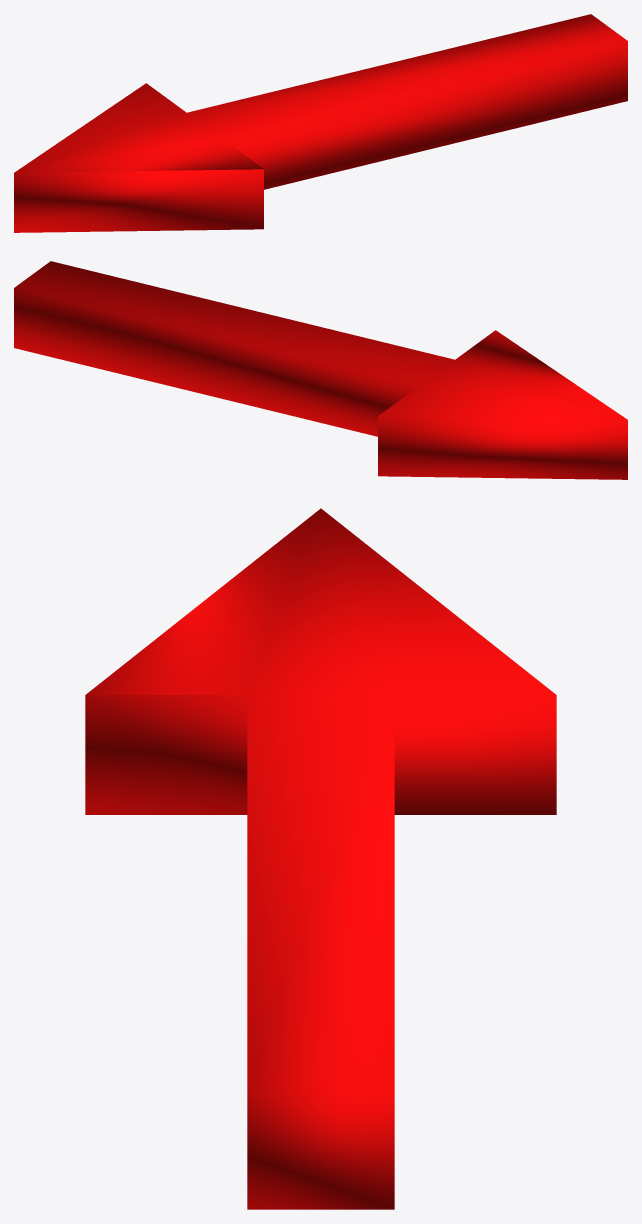
The model's file is Arrow.obj.
The picture shows the model from 3 angles, top to bottom: view 1: azimuth 30°, elevation 25°; view 2: azimuth 150°, elevation 25°; view 3: azimuth 270°, elevation 25°; orthographic projection. The views are drawn at different scales.
Visible parts, largest first — view 1: Arrow; view 2: Arrow; view 3: Arrow.
Part boxes in pixels (x1,y1,x2,y2): Arrow: (14, 14, 627, 232); Arrow: (14, 261, 627, 479); Arrow: (85, 508, 556, 1209).
Bounding box in the file's own units: 18.39 × 1.77 × 6.3.
